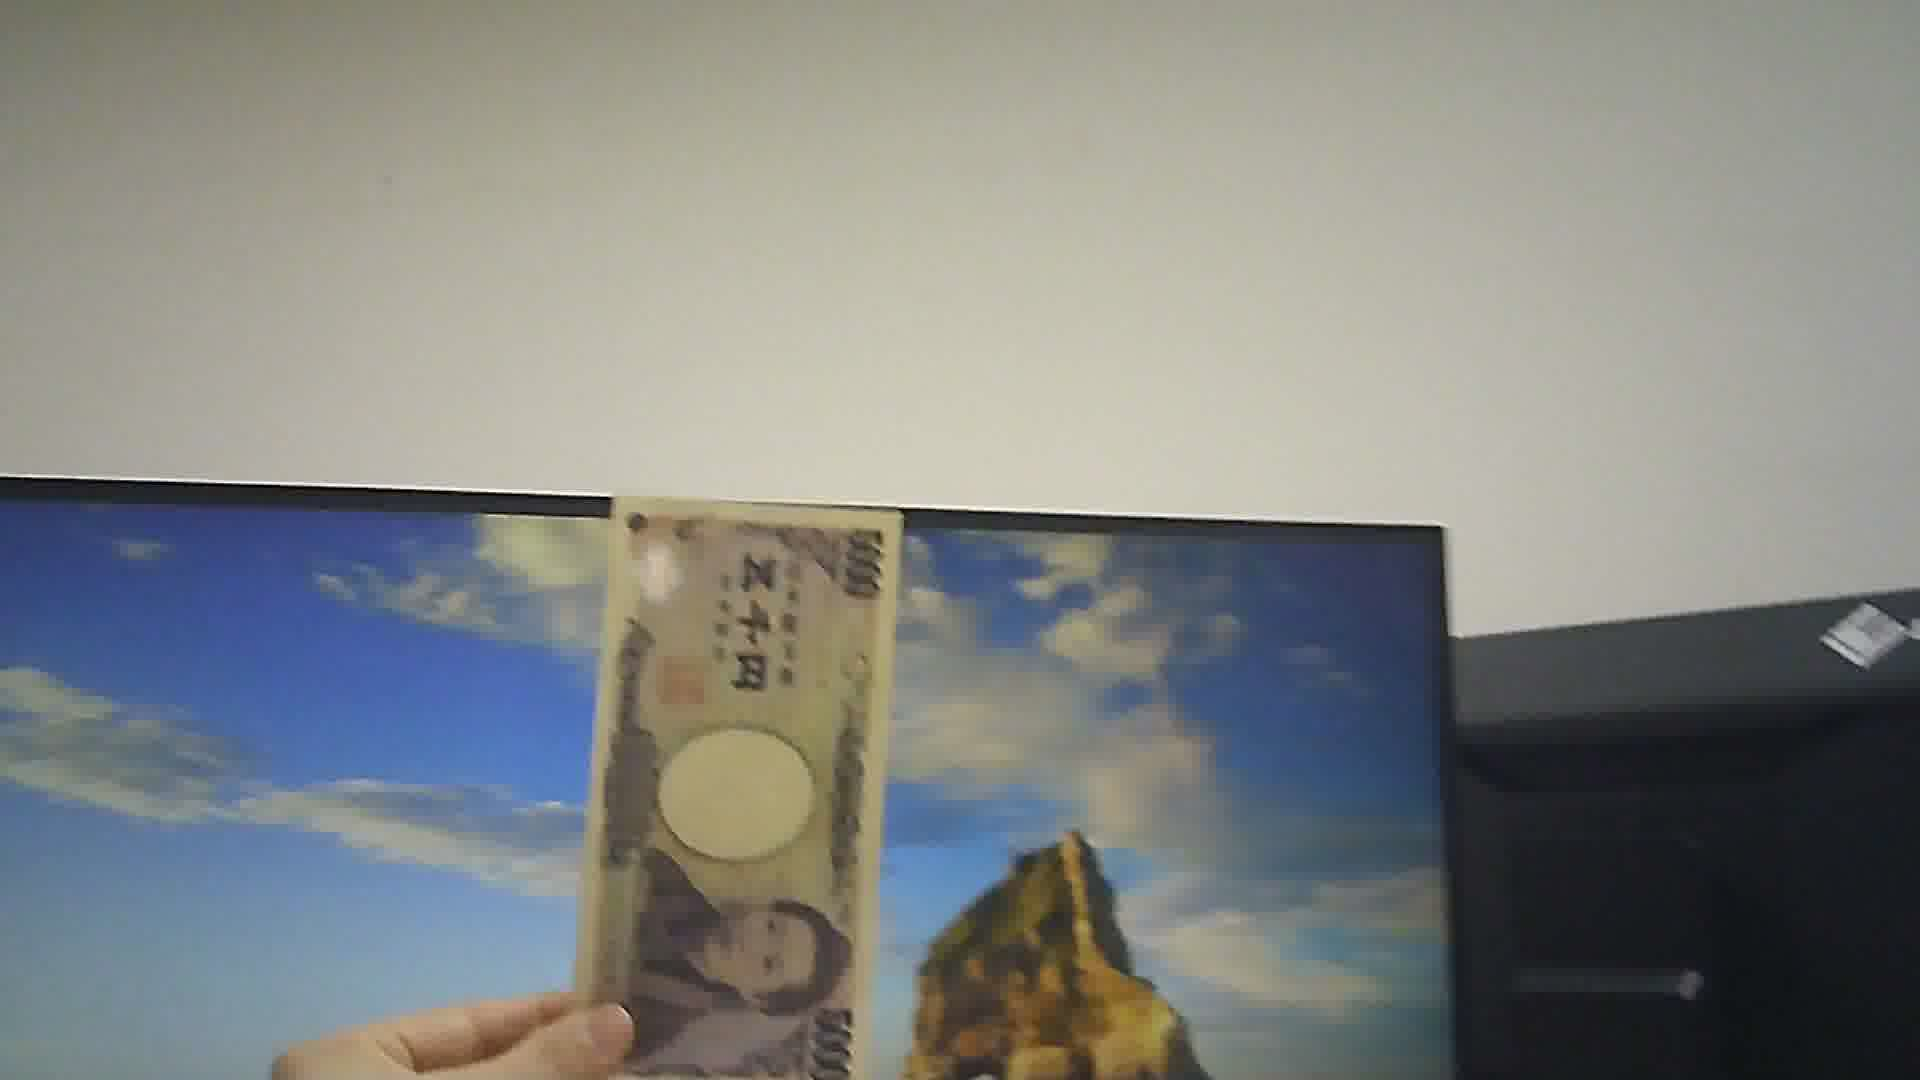5,000 Yen: (585, 492, 886, 1079)
